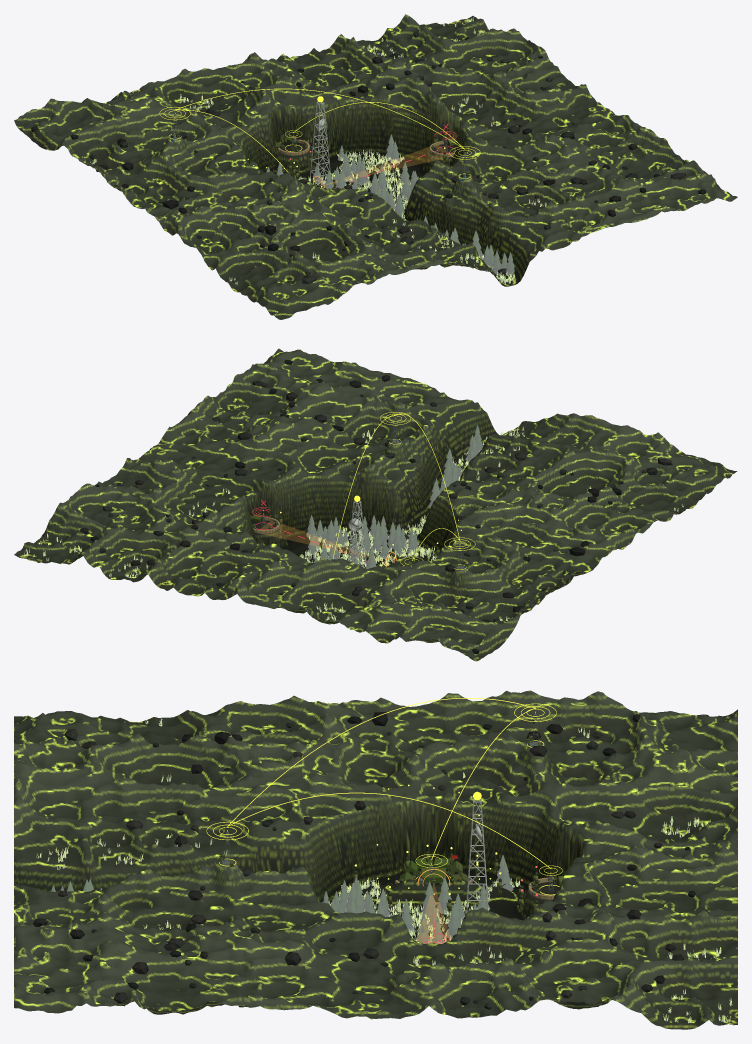
Rendered from terrain_02_cirque_amphitheater.glb.
The picture shows the model from 3 angles, top to bottom: view 1: azimuth 30°, elevation 25°; view 2: azimuth 150°, elevation 25°; view 3: azimuth 270°, elevation 25°; orthographic projection. The views are drawn at different scales.
Parts seen in each view (by area): view 1: T02__terrain_02_cirque_amphitheater, T02__VEG_rocks, T02__VEG_trees, T02__VEG_grass, T02__PROP_lime, T02__DET_lattice_tower, T02__PROP_shadow; view 2: T02__terrain_02_cirque_amphitheater, T02__VEG_trees, T02__VEG_rocks, T02__VEG_grass, T02__PROP_lime, T02__PROP_shadow, T02__DET_lattice_tower; view 3: T02__terrain_02_cirque_amphitheater, T02__VEG_rocks, T02__VEG_trees, T02__VEG_grass, T02__PROP_lime, T02__DET_lattice_tower, T02__PROP_shadow, T02__PROP_canvas, T02__PROP_steel.
Part boxes in pixels (x1,y1,x2,y2): T02__terrain_02_cirque_amphitheater: (14, 14, 737, 319); T02__VEG_rocks: (31, 32, 706, 283); T02__VEG_trees: (266, 134, 514, 275); T02__VEG_grass: (90, 17, 546, 284); T02__PROP_lime: (159, 88, 480, 184); T02__DET_lattice_tower: (310, 101, 330, 187); T02__PROP_shadow: (326, 145, 448, 184); T02__terrain_02_cirque_amphitheater: (14, 348, 737, 661); T02__VEG_trees: (306, 425, 482, 568); T02__VEG_rocks: (80, 360, 672, 653); T02__VEG_grass: (24, 427, 683, 620); T02__PROP_lime: (263, 412, 475, 569); T02__PROP_shadow: (261, 521, 382, 560); T02__DET_lattice_tower: (348, 501, 367, 568); T02__terrain_02_cirque_amphitheater: (14, 690, 737, 1029); T02__VEG_rocks: (33, 711, 708, 1009); T02__VEG_trees: (51, 855, 513, 943); T02__VEG_grass: (36, 717, 732, 1023); T02__PROP_lime: (206, 698, 562, 941); T02__DET_lattice_tower: (466, 798, 488, 913); T02__PROP_shadow: (417, 885, 450, 943); T02__PROP_canvas: (399, 858, 462, 882); T02__PROP_steel: (221, 714, 555, 891).
Bounding box in the file's own units: 100 × 27.34 × 100.
Materials: 23 (1 with a texture image).
